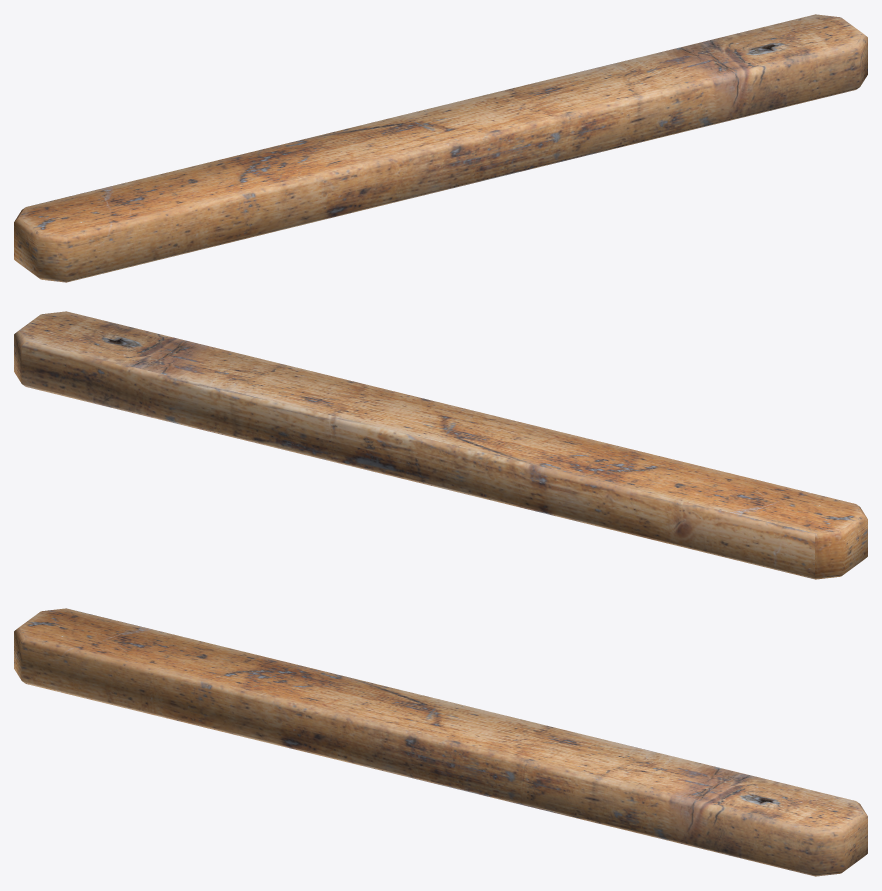
File: Rope Slide Large.fbx
3 views of the same model, one above another, from view 1: azimuth 30°, elevation 25°; view 2: azimuth 150°, elevation 25°; view 3: azimuth 330°, elevation 25° (orthographic).
Visible parts, largest first — view 1: wood strip; view 2: wood strip; view 3: wood strip.
Boxes of the visible parts, <box> form: wood strip: <box>14,14,867,282</box>; wood strip: <box>14,311,867,579</box>; wood strip: <box>14,608,867,876</box>.
Size of the model in its own units: 128 by 12.07 by 6.73.
1 material, 1 textured.
